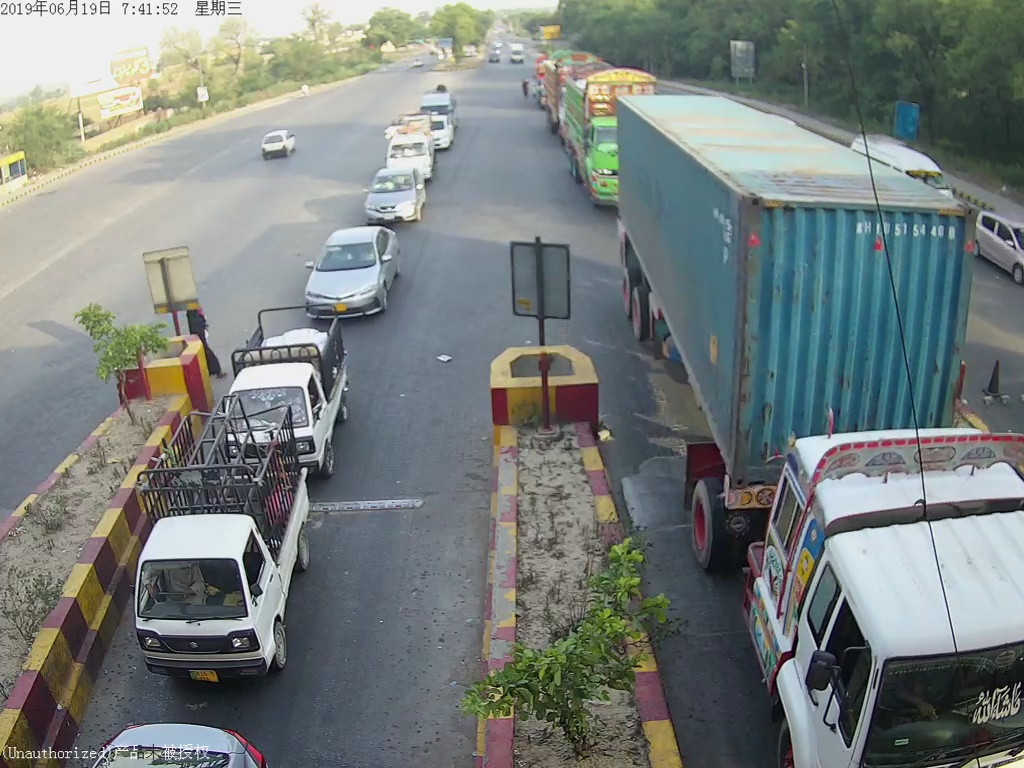Cat-1: (133, 420, 314, 698), (223, 307, 358, 442), (302, 227, 400, 308), (361, 166, 424, 224)
Cat-5: (612, 93, 1021, 768)
